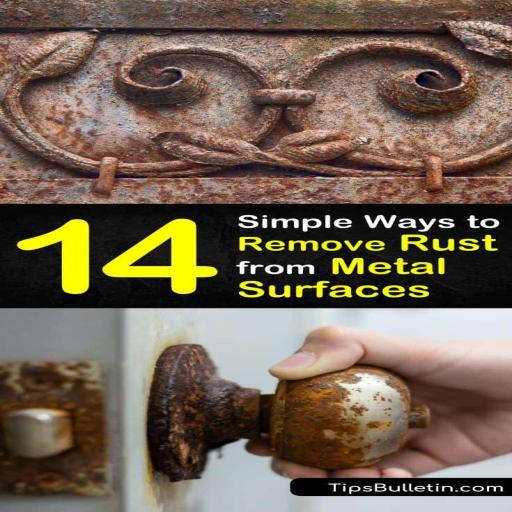segmentation: (269, 327, 411, 478), (149, 345, 266, 481), (407, 339, 510, 467), (5, 364, 102, 496), (272, 327, 362, 379)
